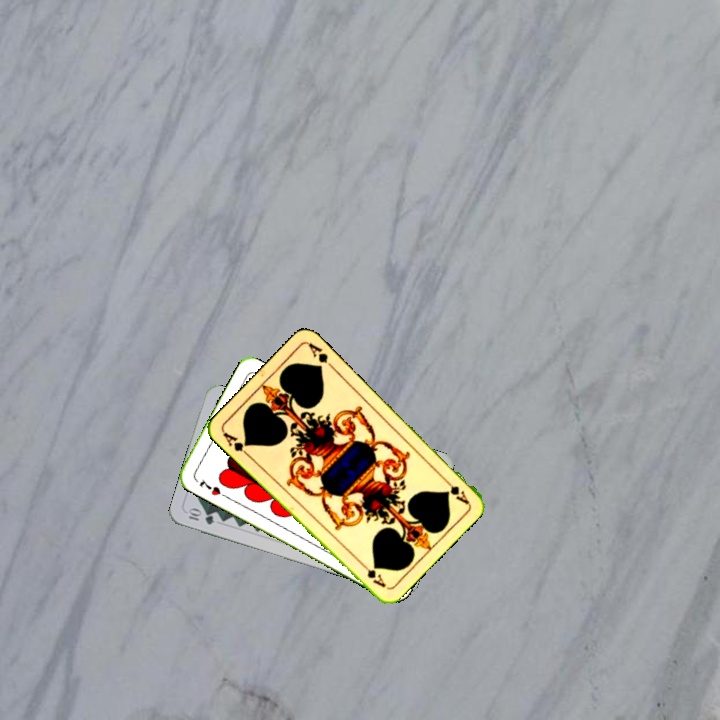G10: (183, 505, 217, 527)
GA: (439, 473, 471, 507), (218, 428, 253, 459)
H7: (195, 476, 223, 498)
